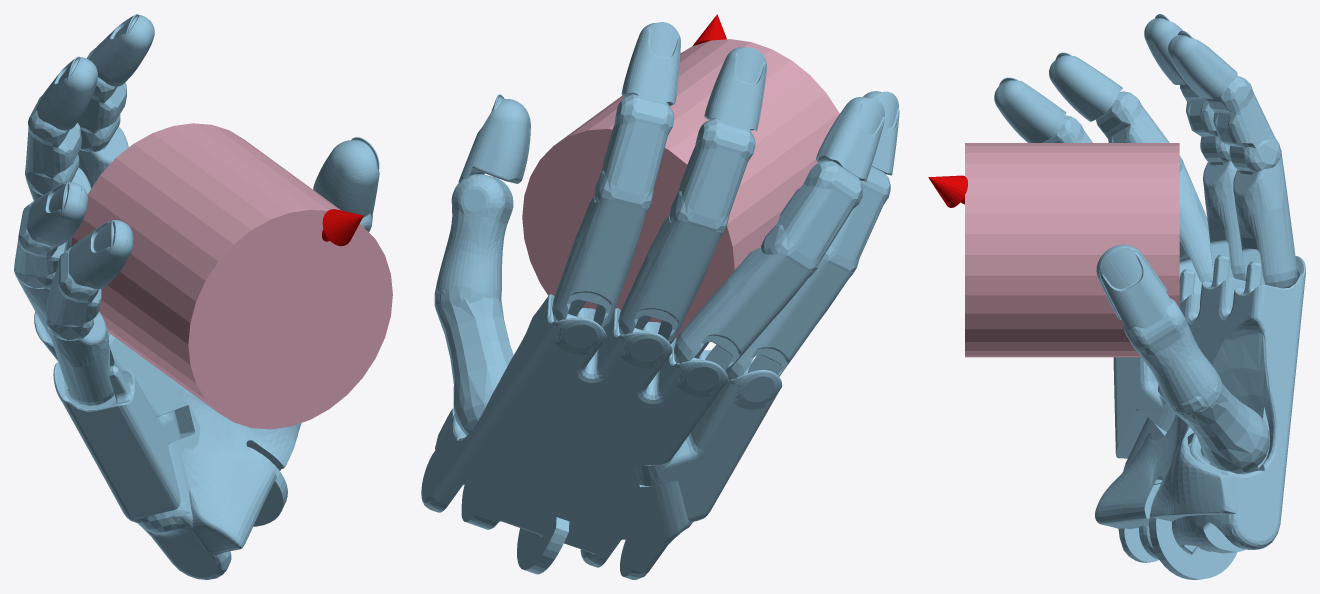
3 renders of one model, left to right at view 1: azimuth 30°, elevation 25°; view 2: azimuth 150°, elevation 25°; view 3: azimuth 270°, elevation 25°, orthographic. The views are drawn at different scales.
Parts seen in each view (by area): view 1: cylinder_medium.stl, world; view 2: world, cylinder_medium.stl; view 3: world, cylinder_medium.stl.
Boxes of the visible parts, <box> form: cylinder_medium.stl: <box>71,123,392,429</box>; world: <box>14,14,379,579</box>; world: <box>421,14,899,579</box>; cylinder_medium.stl: <box>522,39,839,338</box>; world: <box>928,14,1305,579</box>; cylinder_medium.stl: <box>965,143,1179,357</box>.
Size of the model in its own units: 0.1435 by 0.2094 by 0.141.
